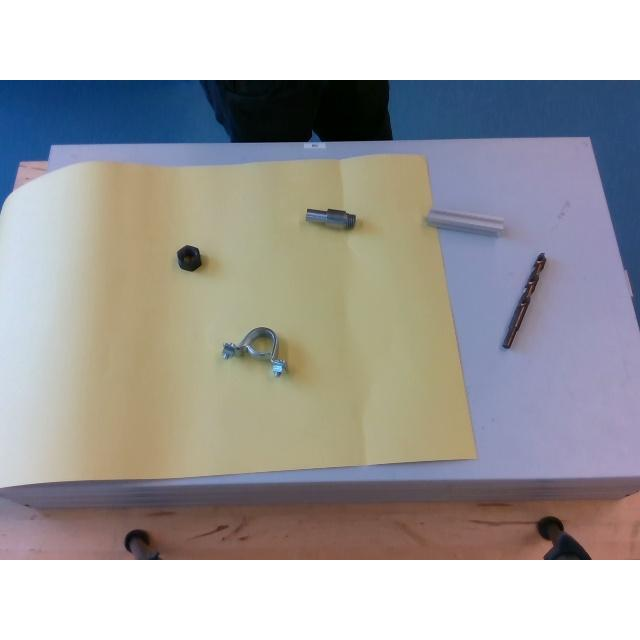Axis2: (305, 206, 357, 234)
Drill: (502, 253, 546, 347)
F20_20_G: (426, 206, 504, 234)
Housing: (223, 326, 287, 374)
M20: (177, 244, 203, 272)
